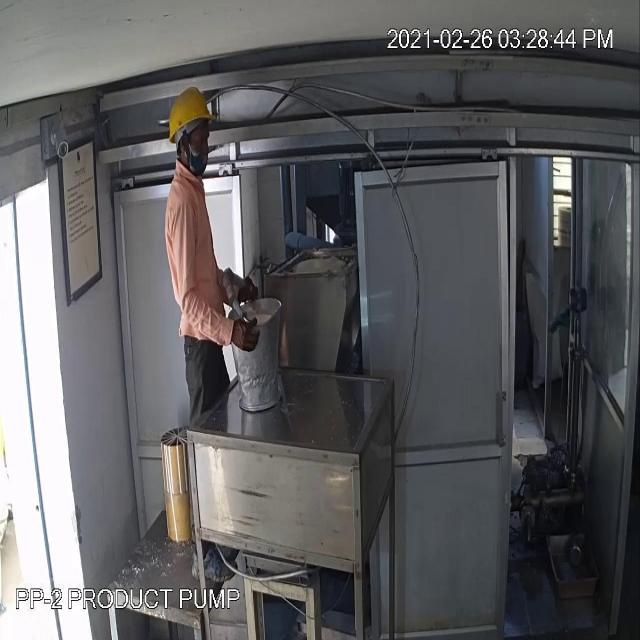helmet: (160, 83, 224, 145)
